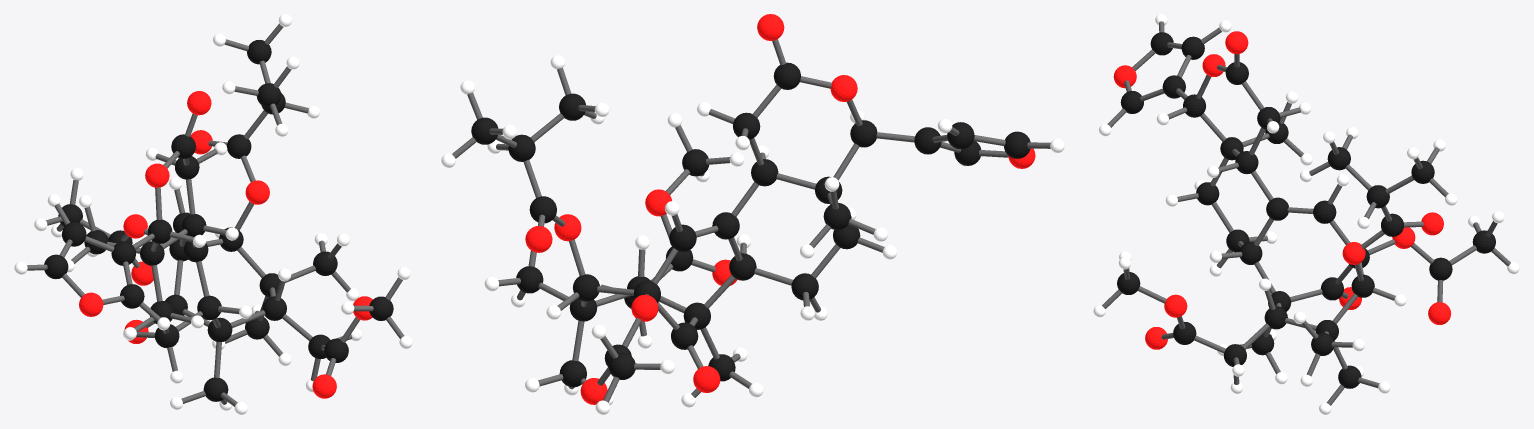
File: molecule.glb
The picture shows the model from 3 angles, left to right: view 1: azimuth 30°, elevation 25°; view 2: azimuth 150°, elevation 25°; view 3: azimuth 270°, elevation 25°; orthographic projection. The views are drawn at different scales.
Parts seen in each view (by area): view 1: geometry_3, geometry_10, geometry_32, geometry_37, geometry_31, geometry_17, geometry_11, geometry_36, geometry_38, geometry_34, geometry_14, geometry_35 (+19 smaller); view 2: geometry_30, geometry_31, geometry_42, geometry_12, geometry_32, geometry_17, geometry_22, geometry_36, geometry_33, geometry_19, geometry_41, geometry_9 (+10 smaller); view 3: geometry_31, geometry_18, geometry_1, geometry_22, geometry_21, geometry_20, geometry_10, geometry_12, geometry_38, geometry_8, geometry_25, geometry_35 (+20 smaller).
Part boxes in pixels (bbox=[...]): geometry_3: bbox=[312, 374, 336, 398]; geometry_10: bbox=[245, 180, 269, 204]; geometry_32: bbox=[145, 163, 169, 187]; geometry_37: bbox=[79, 292, 103, 316]; geometry_31: bbox=[187, 91, 211, 115]; geometry_17: bbox=[123, 214, 147, 238]; geometry_11: bbox=[226, 134, 251, 158]; geometry_36: bbox=[44, 254, 68, 279]; geometry_38: bbox=[120, 284, 144, 308]; geometry_34: bbox=[111, 241, 135, 265]; geometry_14: bbox=[256, 83, 281, 107]; geometry_35: bbox=[62, 222, 86, 246]; geometry_30: bbox=[773, 62, 800, 89]; geometry_31: bbox=[757, 14, 784, 40]; geometry_42: bbox=[693, 366, 720, 392]; geometry_12: bbox=[525, 226, 552, 252]; geometry_32: bbox=[830, 75, 857, 101]; geometry_17: bbox=[631, 294, 658, 321]; geometry_22: bbox=[712, 212, 739, 239]; geometry_36: bbox=[1004, 131, 1030, 158]; geometry_33: bbox=[850, 120, 877, 147]; geometry_19: bbox=[608, 352, 635, 379]; geometry_41: bbox=[671, 322, 698, 349]; geometry_9: bbox=[573, 274, 599, 301]; geometry_31: bbox=[1225, 31, 1248, 54]; geometry_18: bbox=[1429, 257, 1452, 280]; geometry_1: bbox=[1164, 294, 1187, 317]; geometry_22: bbox=[1266, 197, 1288, 220]; geometry_21: bbox=[1313, 200, 1336, 223]; geometry_20: bbox=[1428, 302, 1451, 324]; geometry_10: bbox=[1342, 242, 1365, 264]; geometry_12: bbox=[1421, 212, 1443, 235]; geometry_38: bbox=[1120, 91, 1143, 113]; geometry_8: bbox=[1338, 365, 1361, 388]; geometry_25: bbox=[1196, 182, 1219, 205]; geometry_35: bbox=[1181, 36, 1204, 59].
Size of the model in its own units: 0.257 by 0.2034 by 0.2391.
